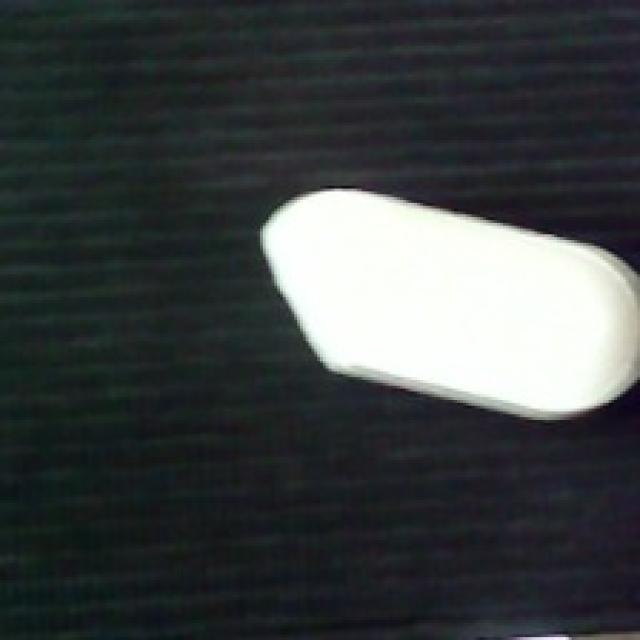defected: (260, 184, 640, 420)
